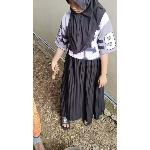Golok: (39, 65, 60, 108)
